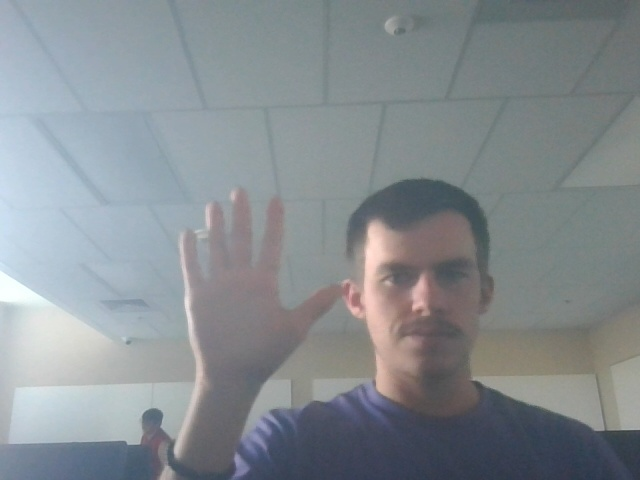hello: (164, 181, 346, 390)
